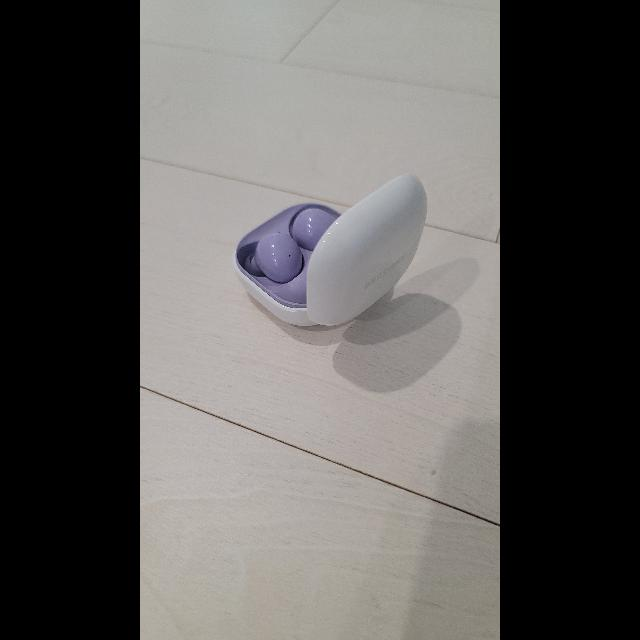GALAXY-BUDS-2: (232, 174, 428, 326)
